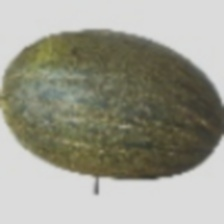honeydew: (47, 35, 212, 224)
